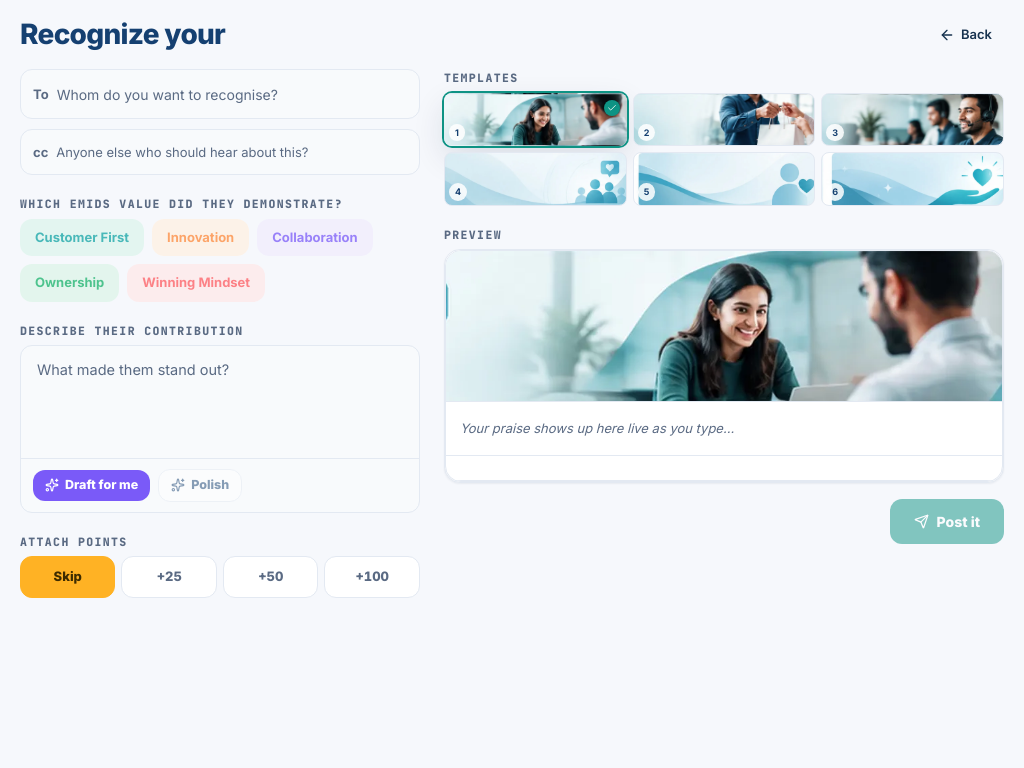
ComposeForm (integration) › shows CC picker results and adds a chip
Type "kenji" into the field with placeholder "Anyone else who should hear about this?".
click(232, 152); type("kenji")  # box left=56, top=138, right=407, bottom=166
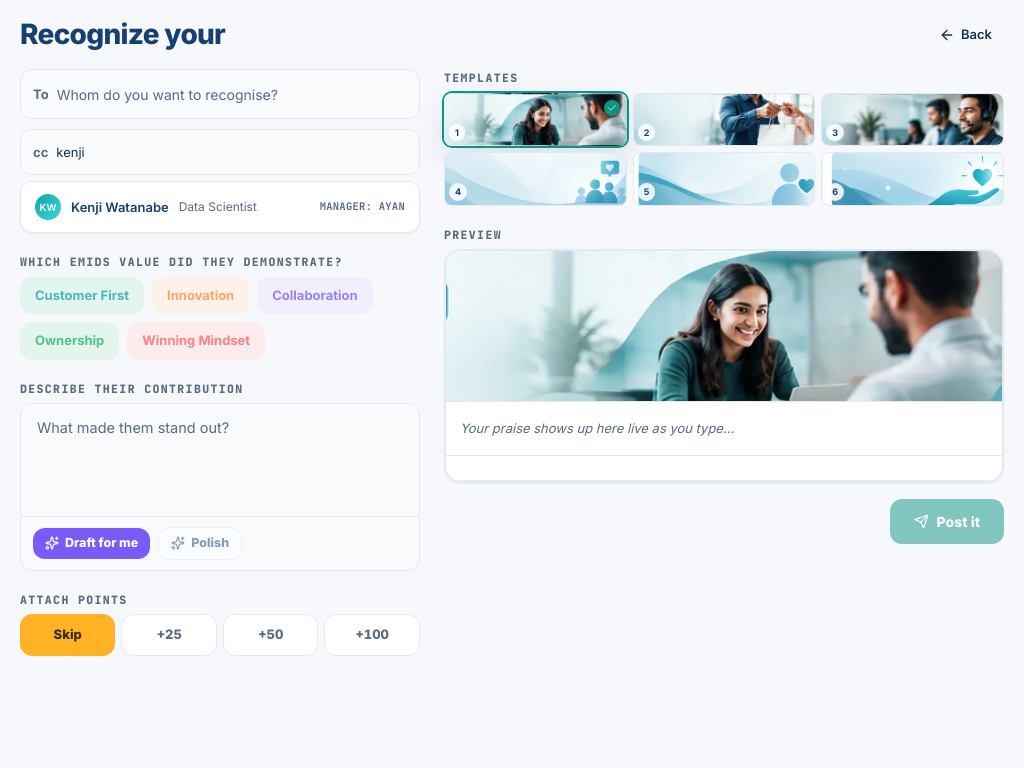
Expected: the text "Kenji Watanabe" is shown
Click the text "Kenji Watanabe".
click(120, 207)  # box left=71, top=198, right=169, bottom=217
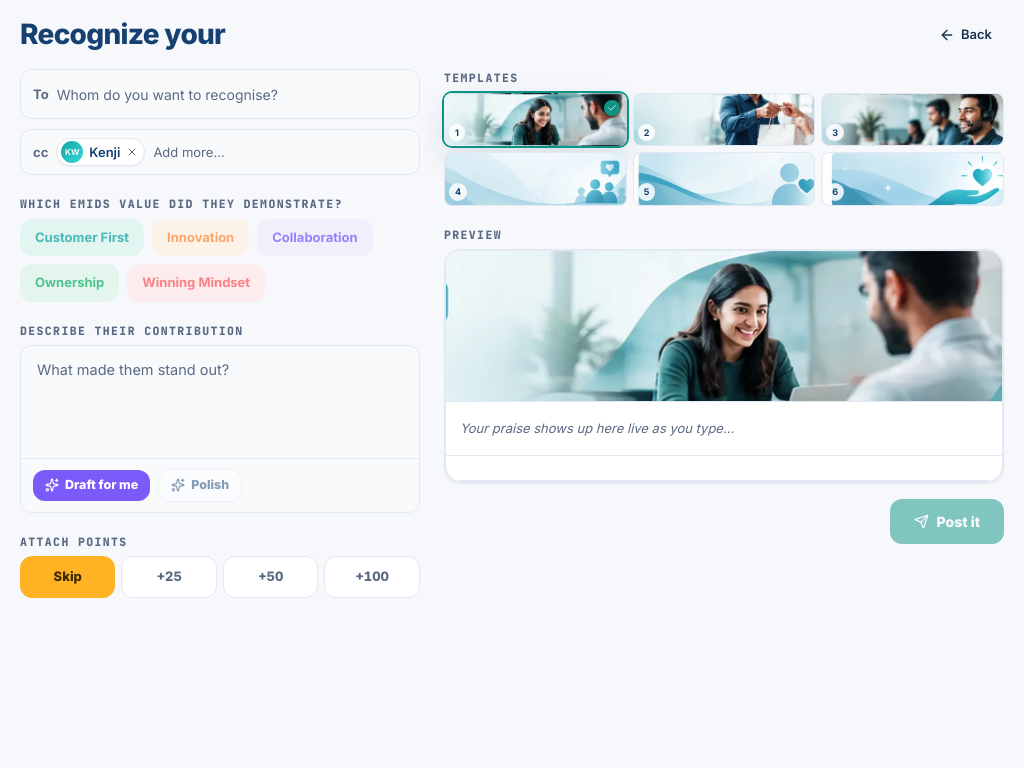
Expected: the text "Kenji" is shown, left=89, top=143, right=120, bottom=162
Expected: the field with placeholder "Add more…" is shown, left=153, top=138, right=407, bottom=166
